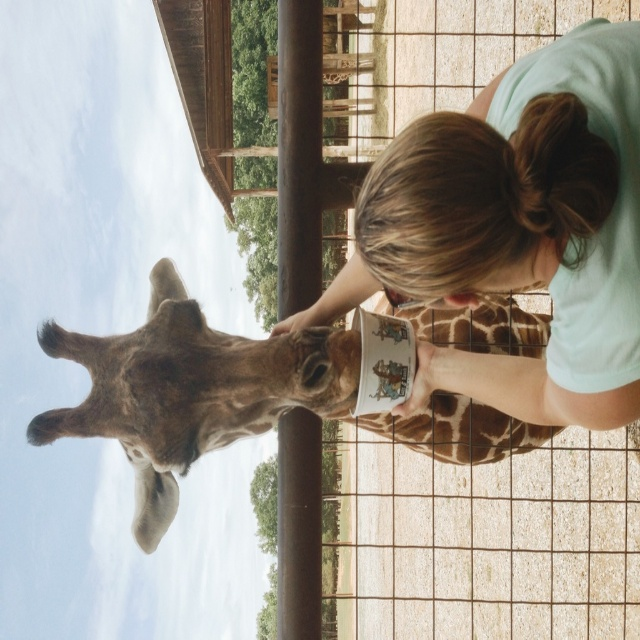Giraffe: (32, 252, 566, 554)
